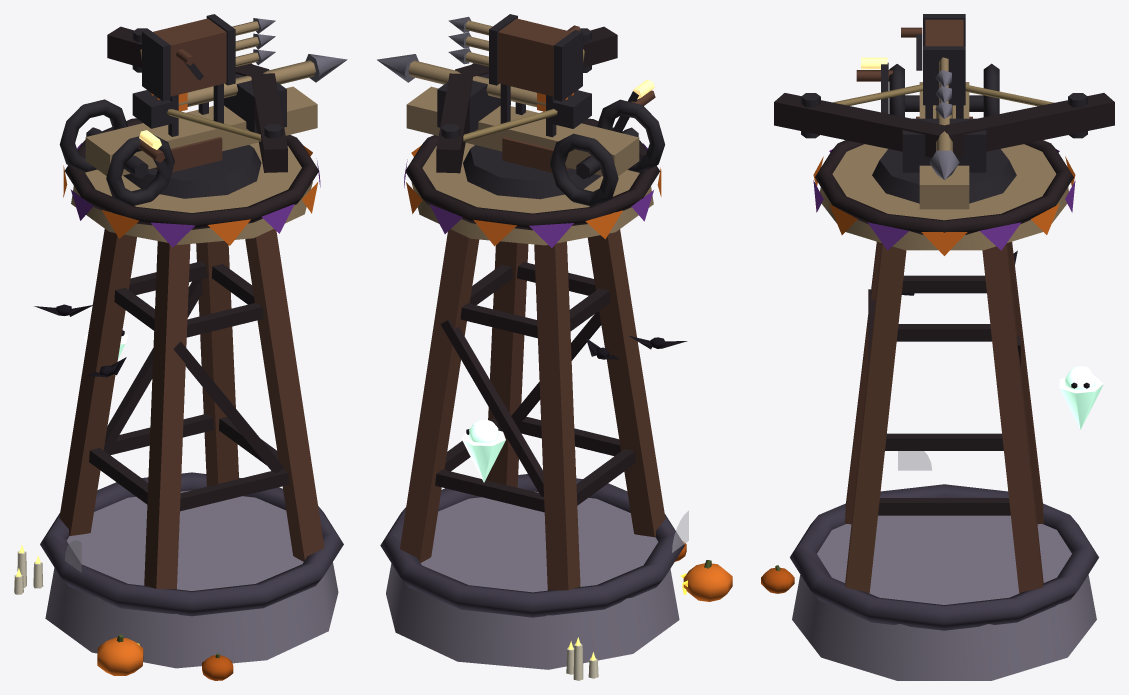
Rendered from tower_ballista_repeater.glb.
The picture shows the model from 3 angles, left to right: view 1: azimuth 30°, elevation 25°; view 2: azimuth 150°, elevation 25°; view 3: azimuth 270°, elevation 25°; orthographic projection.
Parts seen in each view (by area): view 1: base, leg_wn, base_rim, leg_en, leg_ws, leg_es, deck, stock, deck_rim, magazine, turret_ring, deco_hw_bunting (+25 smaller); view 2: base, leg_ws, base_rim, leg_es, leg_wn, deck, leg_en, stock, deck_rim, magazine, turret_ring, brace_b (+26 smaller); view 3: base, base_rim, leg_en, leg_es, deck, deck_rim, bow_arm_l, bow_arm_r, turret_ring, deco_hw_bunting, stock, ring_e_0.21 (+17 smaller).
Part boxes in pixels (x1,y1,x2,y2): base: (45,490,338,668); leg_wn: (144,241,190,589); base_rim: (40,472,343,616); leg_en: (245,229,324,561); leg_ws: (59,229,136,535); leg_es: (196,241,238,486); deck: (71,142,312,244); stock: (85,86,317,175); deck_rim: (65,118,318,229); magazine: (153,18,226,96); turret_ring: (123,145,261,198); deco_hw_bunting: (63,143,320,247); base: (386,491,679,669); leg_ws: (534,241,580,590); base_rim: (380,474,684,617); leg_es: (400,229,479,562); leg_wn: (587,229,665,537); deck: (411,143,653,245); leg_en: (486,241,528,487); stock: (406,86,639,176); deck_rim: (405,118,660,230); magazine: (498,18,571,96); turret_ring: (463,145,601,199); brace_b: (440,319,543,496); base: (792,515,1096,680); base_rim: (790,484,1098,630); leg_en: (845,243,906,593); leg_es: (982,243,1043,593); deck: (820,144,1068,250); deck_rim: (815,140,1073,234); bow_arm_l: (774,93,948,157); bow_arm_r: (941,93,1114,157); turret_ring: (872,149,1016,203); deco_hw_bunting: (813,149,1075,255); stock: (919,82,969,209); ring_e_0.21: (878,498,1010,515).
Bounding box in the file's own units: 0.463 × 0.848 × 0.4638.
